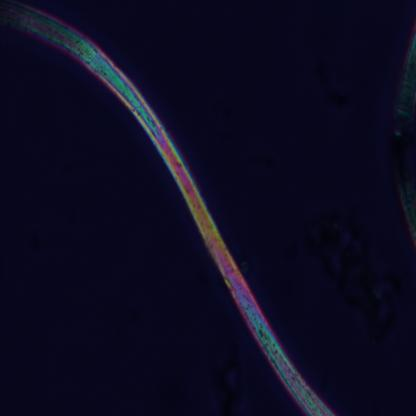Microfibre: (2, 0, 334, 416)
